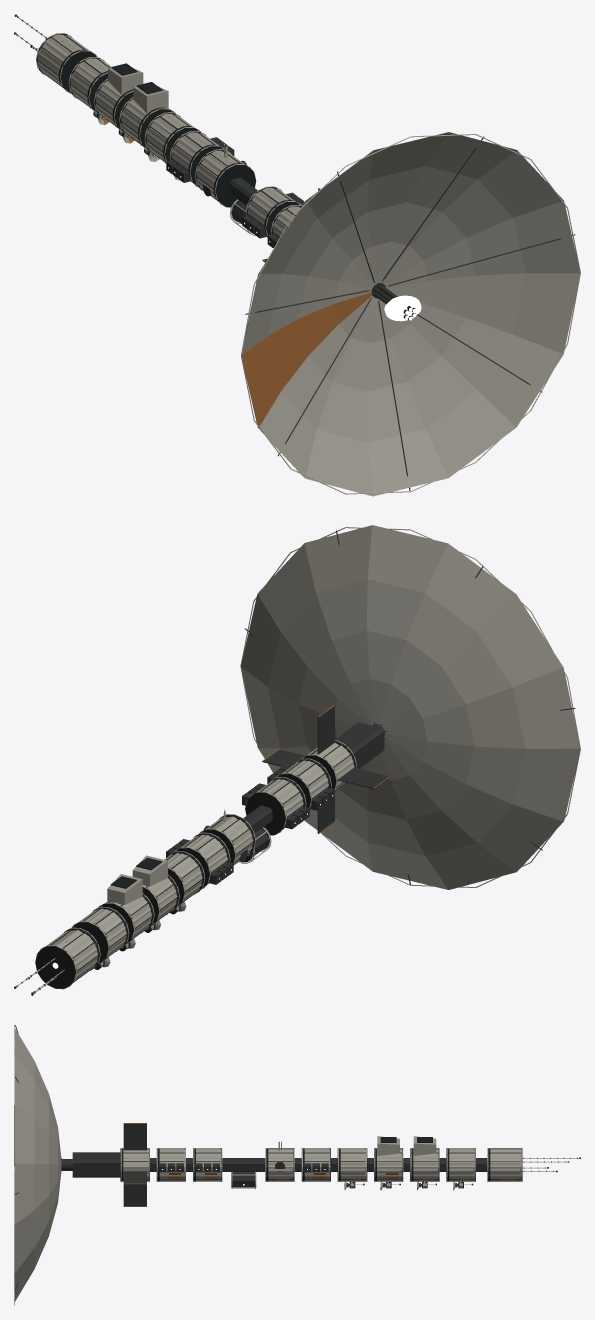
3 renders of one model, top to bottom at view 1: azimuth 30°, elevation 25°; view 2: azimuth 150°, elevation 25°; view 3: azimuth 270°, elevation 25°, orthographic. The views are drawn at different scales.
Parts seen in each view (by area): view 1: RIMWARD_HULL, RIMWARD_ENGINE_GLOW; view 2: RIMWARD_HULL; view 3: RIMWARD_HULL.
Boxes of the visible parts, left/top/right/bottom form: RIMWARD_HULL: left=14, top=14, right=580, bottom=496; RIMWARD_ENGINE_GLOW: left=384, top=295, right=421, bottom=321; RIMWARD_HULL: left=14, top=525, right=580, bottom=995; RIMWARD_HULL: left=14, top=1024, right=580, bottom=1305.
Size of the model in its own units: 40.94 by 40.94 by 82.51.
